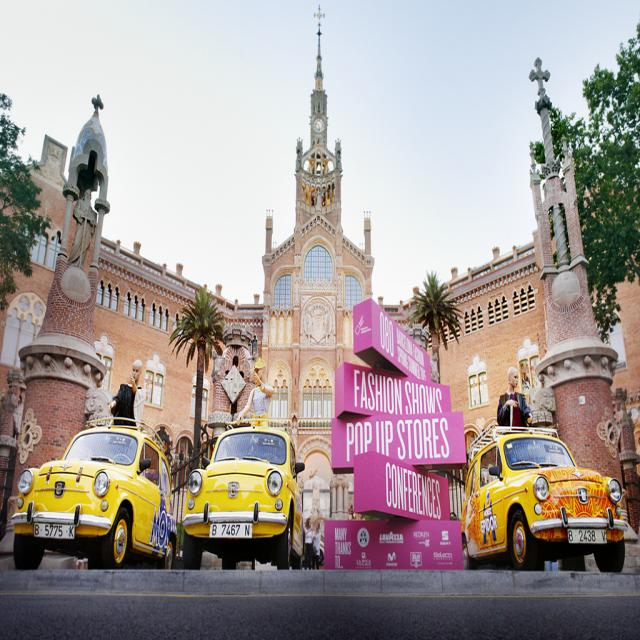other: (12, 414, 176, 571), (461, 421, 628, 572), (182, 417, 307, 574)
